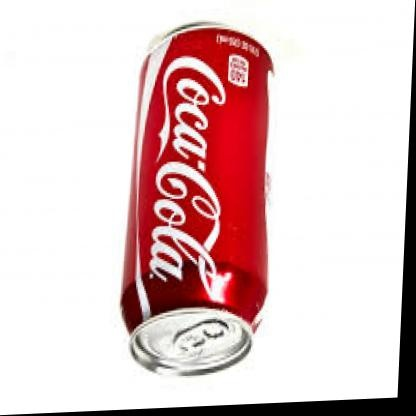trash: (121, 23, 272, 374)
